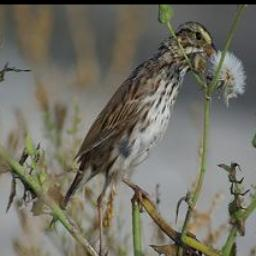Sparrow: (48, 19, 220, 228)
